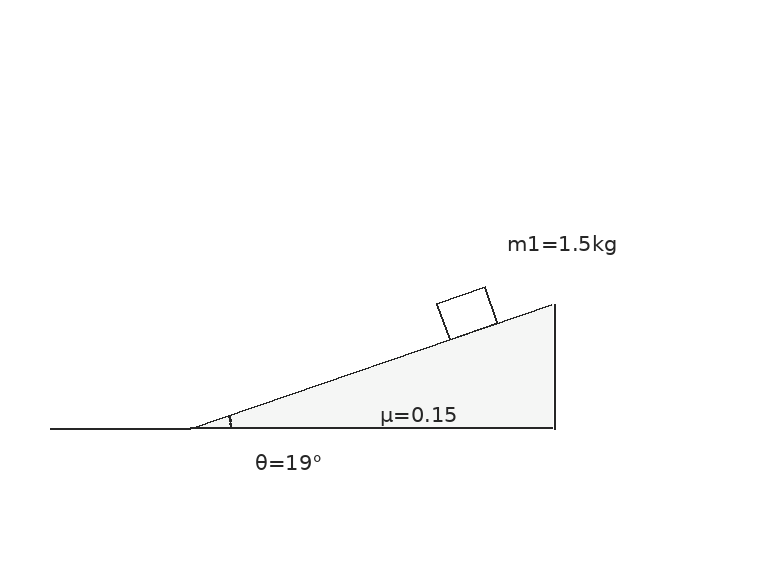block: (434, 285, 499, 341)
ramp: (189, 302, 554, 430)
